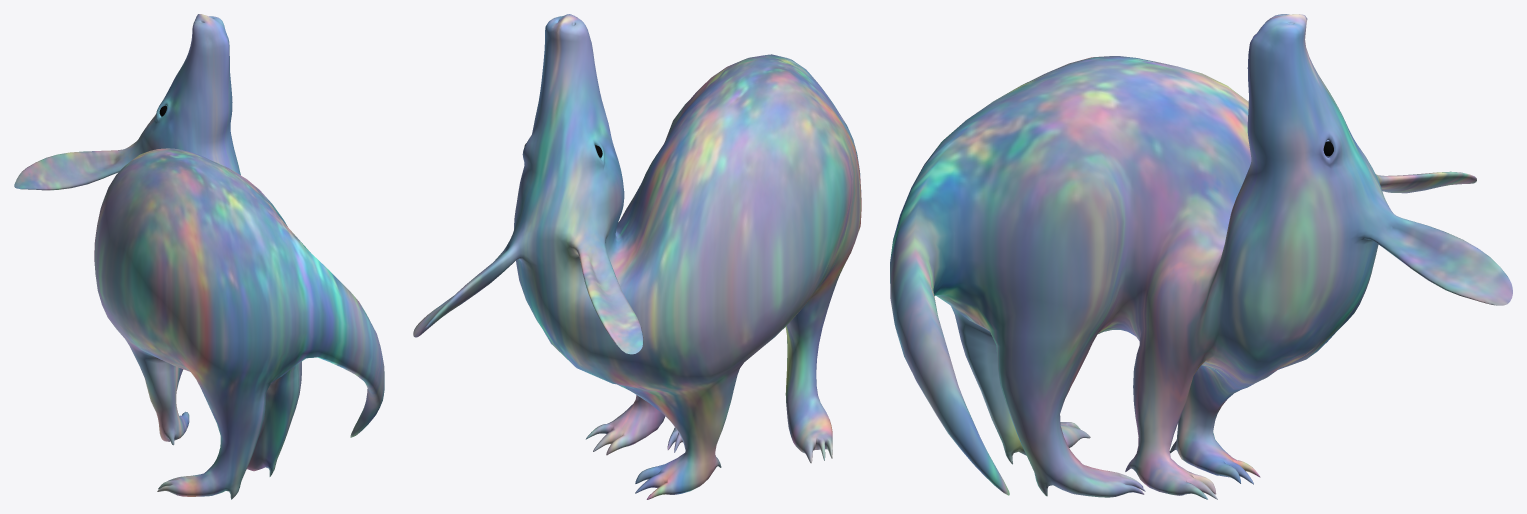
File: aardvark.glb
3 renders of one model, left to right at view 1: azimuth 30°, elevation 25°; view 2: azimuth 150°, elevation 25°; view 3: azimuth 270°, elevation 25°, orthographic. The views are drawn at different scales.
Parts seen in each view (by area): view 1: aardvark; view 2: aardvark; view 3: aardvark.
Part boxes in pixels (x1,y1,x2,y2): aardvark: (14,14,384,499); aardvark: (413,14,861,499); aardvark: (890,14,1512,499).
Bounding box in the file's own units: 0.0468 × 0.0889 × 0.1.
3 materials, 1 textured.
